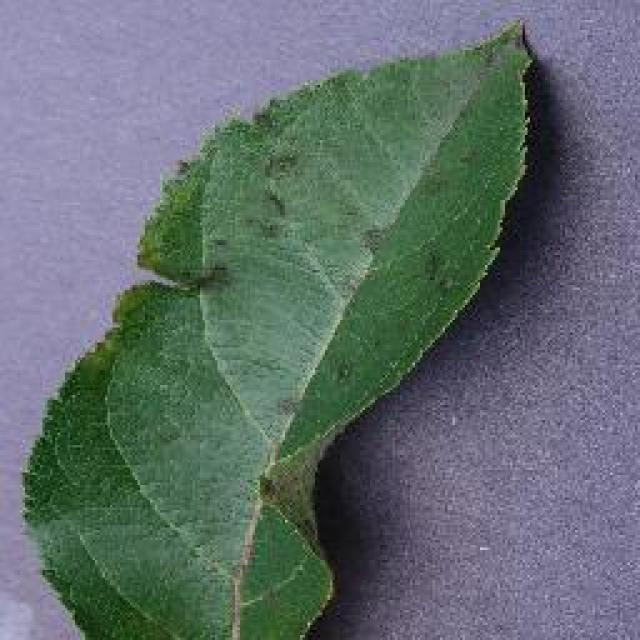apple scab disease: (18, 15, 538, 637)
